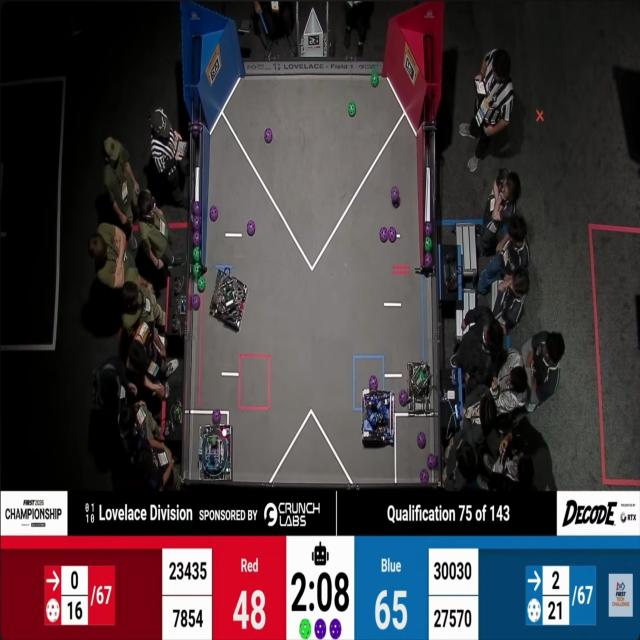artifact_green: (172, 294, 200, 413), (299, 619, 311, 639), (192, 263, 202, 280), (197, 276, 206, 293), (424, 252, 433, 268), (193, 247, 201, 263), (348, 101, 356, 117), (371, 72, 379, 87), (425, 237, 432, 251)
artifact_purple: (315, 619, 326, 639), (330, 619, 341, 639), (190, 121, 201, 137), (191, 294, 201, 311), (387, 227, 397, 243), (428, 453, 437, 470), (417, 432, 426, 449), (399, 390, 408, 406), (369, 376, 378, 391), (212, 410, 221, 425), (424, 253, 433, 268), (210, 206, 218, 222), (391, 187, 399, 203), (420, 469, 429, 483), (193, 231, 201, 246), (380, 227, 388, 242), (247, 221, 255, 236), (193, 215, 201, 230), (265, 128, 273, 143), (193, 201, 201, 215), (457, 402, 463, 420), (425, 222, 432, 236), (452, 375, 458, 387), (392, 200, 400, 208)
